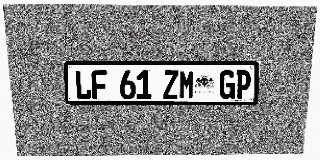1: (136, 70, 152, 99)
6: (120, 70, 136, 99)
F: (91, 70, 108, 99)
G: (219, 70, 236, 99)
L: (74, 70, 92, 99)
M: (179, 70, 195, 99)
P: (235, 70, 252, 99)
Z: (163, 70, 179, 99)
